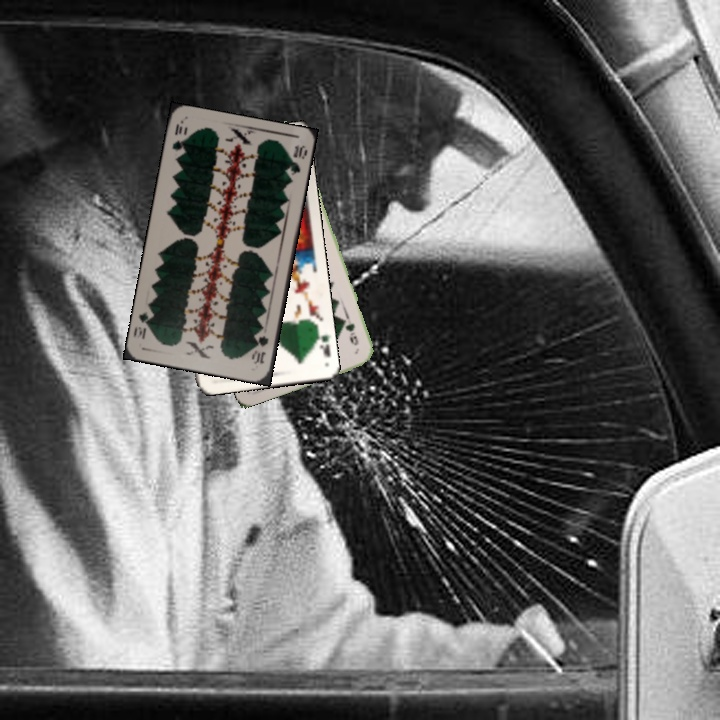G10: (250, 332, 271, 366), (168, 119, 188, 154)
G9: (342, 319, 361, 348)
GK: (312, 324, 333, 360)
